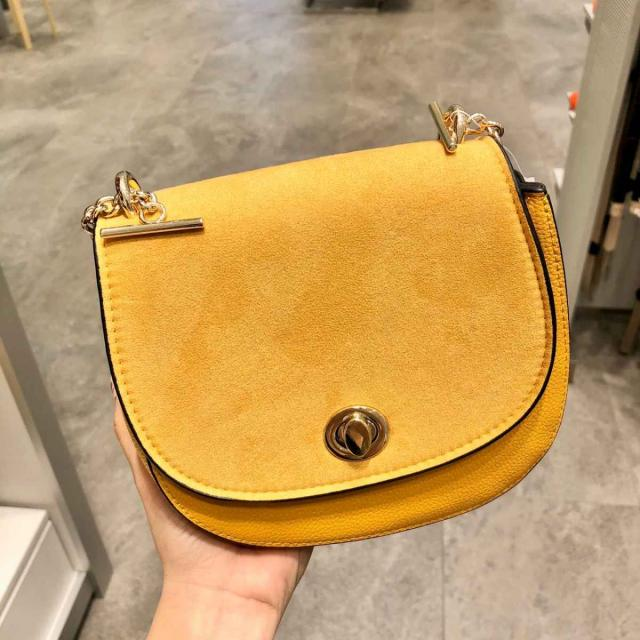Handbag: (90, 127, 572, 546)
